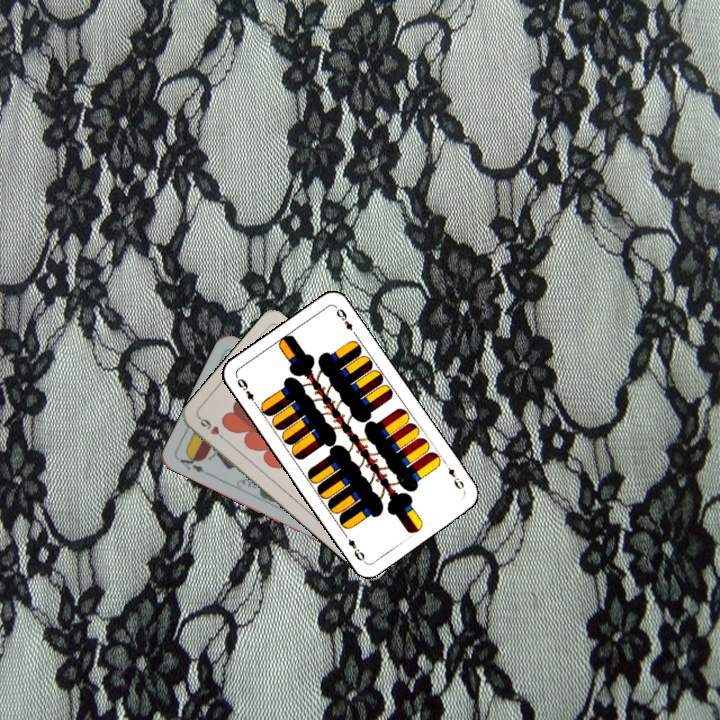E9: (232, 373, 260, 409), (440, 458, 467, 494)
EA: (176, 450, 213, 478)
H9: (195, 413, 229, 443)
